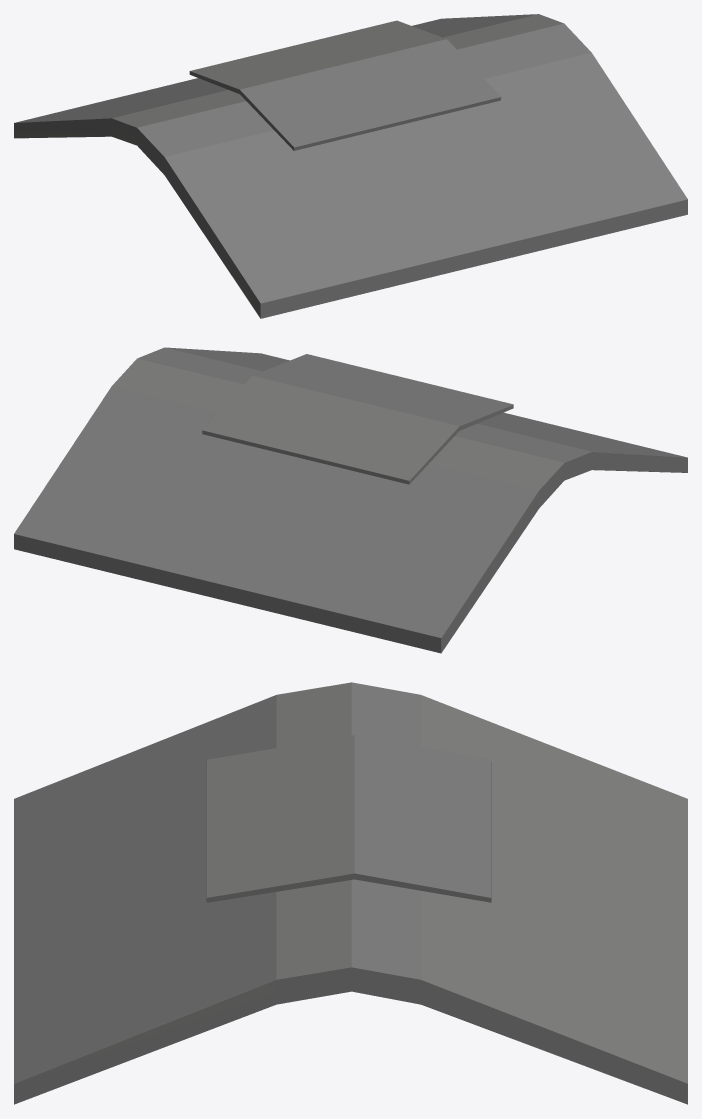
File: stackedRoof.obj
3 renders of one model, top to bottom at view 1: azimuth 30°, elevation 25°; view 2: azimuth 150°, elevation 25°; view 3: azimuth 270°, elevation 25°, orthographic. The views are drawn at different scales.
Parts seen in each view (by area): view 1: pCube2; view 2: pCube2; view 3: pCube2.
Boxes of the visible parts, x1,y1,x2,y2 form: pCube2: [14, 14, 687, 318]; pCube2: [14, 347, 687, 653]; pCube2: [14, 682, 687, 1104].
Bounding box in the file's own units: 100 × 25.2 × 100.
Materials: 1 (1 with a texture image).
